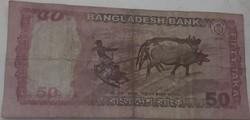50 taka: (11, 3, 248, 113)
